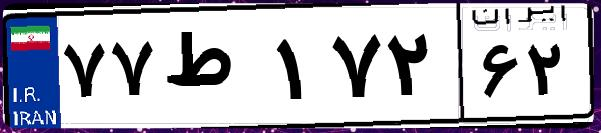1: (270, 28, 330, 110)
2: (385, 28, 445, 110), (525, 38, 570, 115)
6: (475, 38, 525, 113)
7: (330, 28, 385, 110), (57, 26, 110, 100), (110, 28, 158, 98)
ط: (158, 20, 270, 120)
